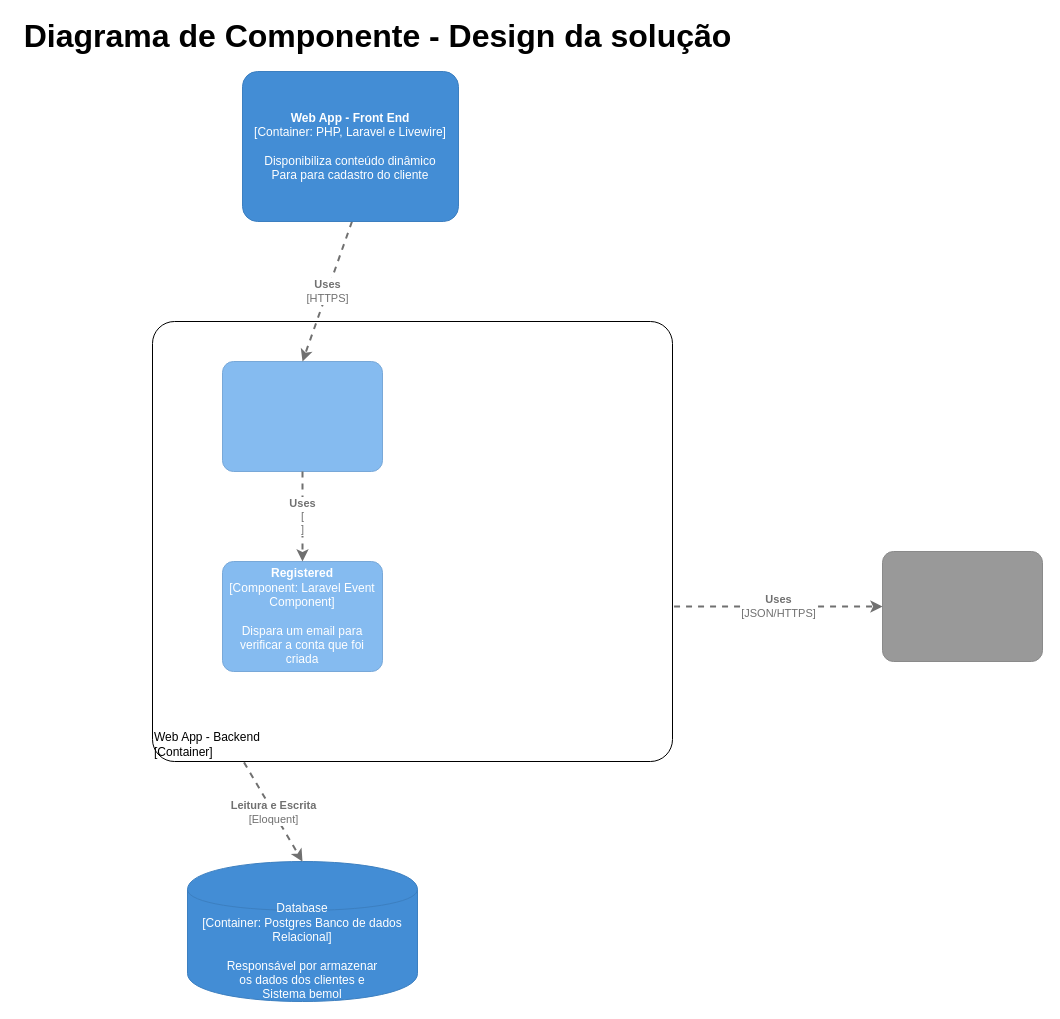
Image size: 1060x1019. Some labels were removed from this diagram. The box of each missing label's shape, as (x1, y1, x2, y2) in pixels:
Register [Component: Livewire Class] Realiza o cadastro de clientes: (222, 360, 382, 472)
ViaCep [Software System] API de consulta de ceps: (882, 550, 1042, 662)
